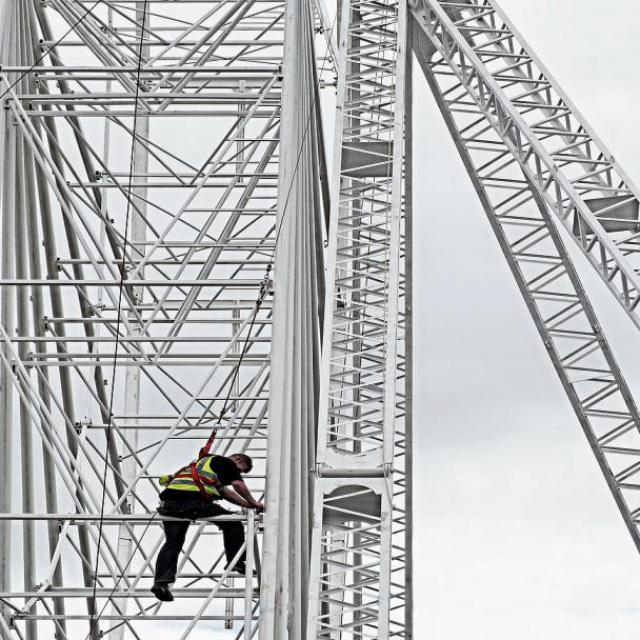vest: (169, 454, 235, 507)
